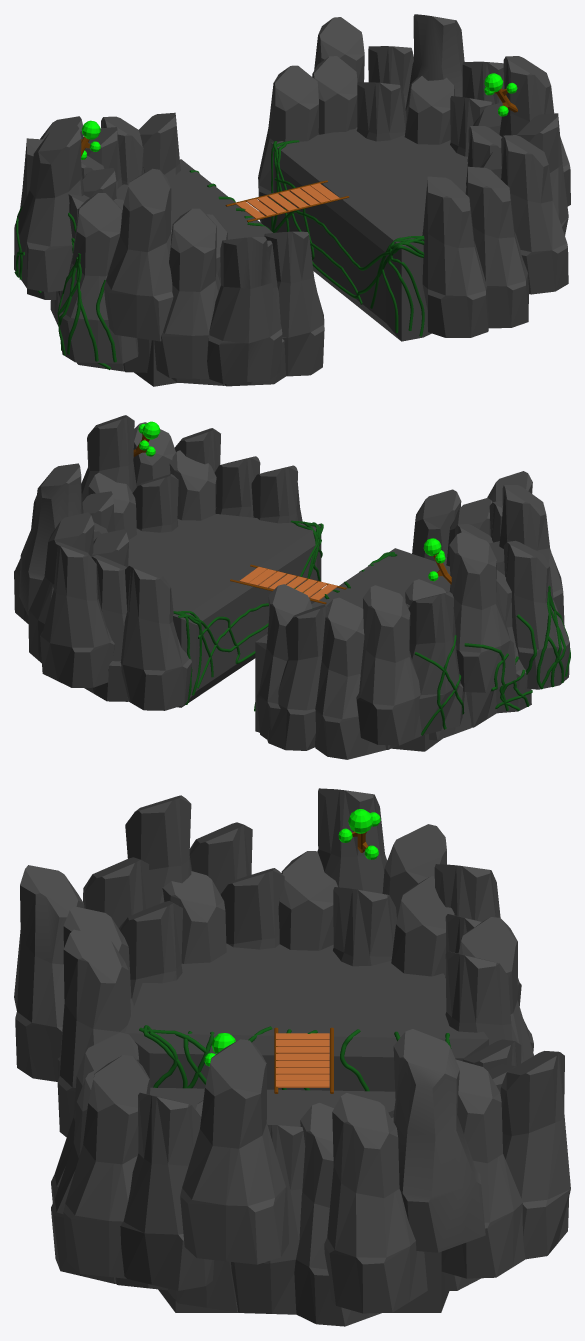
The picture shows the model from 3 angles, top to bottom: view 1: azimuth 30°, elevation 25°; view 2: azimuth 150°, elevation 25°; view 3: azimuth 270°, elevation 25°; orthographic projection. The views are drawn at different scales.
Visible parts, largest first — view 1: Box139, Box130, Box132, Box135, Box124, Box131, Box129, Box090, Box088, Box134, Box136, Box133 (+22 smaller); view 2: Box139, Box122, Box101, Box136, Box124, Box121, Box129, Box123, Box138, Box133, Box099, Box137 (+25 smaller); view 3: Box133, Box092, Box098, Box099, Box090, Box091, Box101, Box132, Box100, Box134, Box097, Box082 (+22 smaller).
Boxes of the visible parts, x1=… form: Box139: x1=271, y1=128, x2=467, y2=341; Box130: x1=104, y1=168, x2=173, y2=341; Box132: x1=207, y1=237, x2=282, y2=383; Box135: x1=422, y1=176, x2=488, y2=337; Box124: x1=14, y1=125, x2=84, y2=292; Box131: x1=154, y1=208, x2=220, y2=379; Box129: x1=59, y1=193, x2=138, y2=363; Box090: x1=501, y1=135, x2=568, y2=294; Box088: x1=465, y1=166, x2=528, y2=328; Box134: x1=264, y1=231, x2=324, y2=376; Box136: x1=258, y1=65, x2=319, y2=230; Box133: x1=116, y1=159, x2=272, y2=386; Box139: x1=128, y1=514, x2=321, y2=707; Box122: x1=356, y1=585, x2=421, y2=745; Box101: x1=40, y1=542, x2=114, y2=687; Box136: x1=120, y1=564, x2=191, y2=710; Box124: x1=449, y1=532, x2=516, y2=692; Box121: x1=315, y1=597, x2=385, y2=759; Box129: x1=503, y1=540, x2=569, y2=689; Box123: x1=408, y1=592, x2=464, y2=734; Box138: x1=267, y1=604, x2=329, y2=750; Box133: x1=255, y1=548, x2=450, y2=751; Box099: x1=19, y1=463, x2=83, y2=615; Box137: x1=256, y1=584, x2=312, y2=739; Box133: x1=125, y1=943, x2=488, y2=1091; Box092: x1=180, y1=1039, x2=288, y2=1264; Box098: x1=324, y1=1093, x2=427, y2=1313; Box099: x1=393, y1=1029, x2=485, y2=1252; Box090: x1=63, y1=1055, x2=150, y2=1278; Box091: x1=120, y1=1092, x2=214, y2=1290; Box101: x1=500, y1=1051, x2=570, y2=1259; Box132: x1=14, y1=865, x2=84, y2=1081; Box100: x1=441, y1=1059, x2=525, y2=1278; Box134: x1=57, y1=929, x2=130, y2=1137; Box097: x1=294, y1=1103, x2=381, y2=1326; Box082: x1=231, y1=1124, x2=305, y2=1314.
Bounding box in the file's own units: 4854 × 1865 × 3430.
